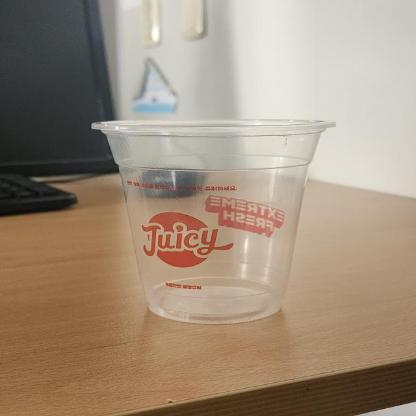Plastic Cup: (89, 118, 336, 324)
